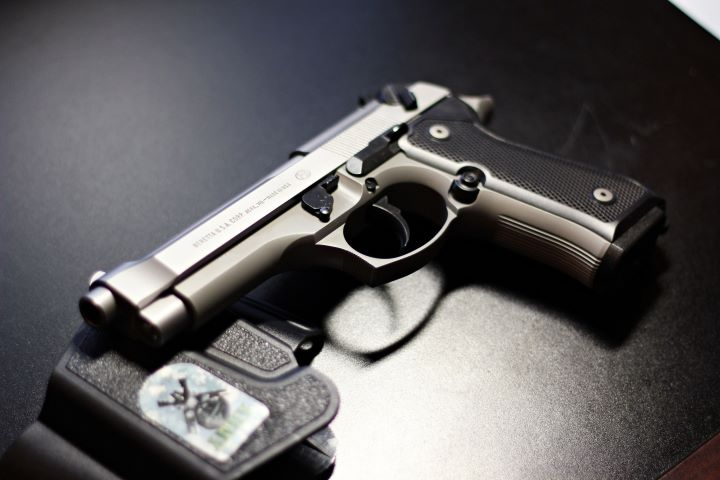pistol: (75, 79, 669, 371)
